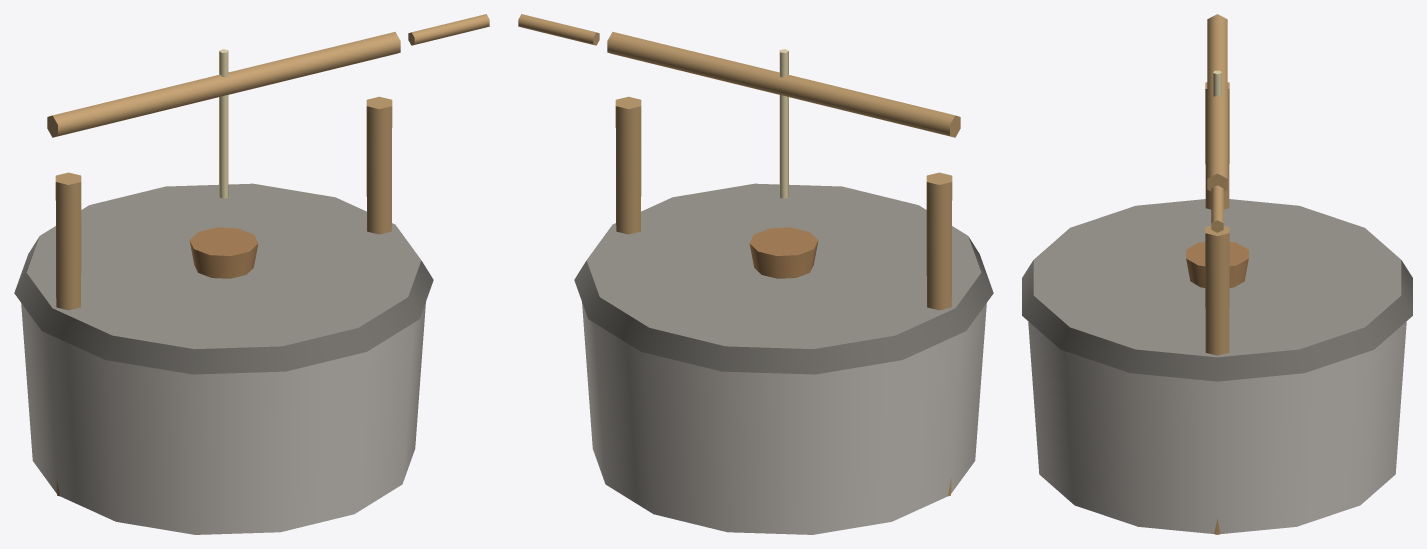
File: well.glb
3 renders of one model, left to right at view 1: azimuth 30°, elevation 25°; view 2: azimuth 150°, elevation 25°; view 3: azimuth 270°, elevation 25°, orthographic. The views are drawn at different scales.
Visible parts, largest first — view 1: well_body, well_rim, crossbeam, post_L, post_R, bucket, rope, handle; view 2: well_body, well_rim, crossbeam, post_L, post_R, bucket, rope, handle; view 3: well_body, well_rim, crossbeam, post_R, bucket, post_L, handle.
Boxes of the visible parts, x1,y1,x2,y2 form: well_body: (21,302,425,534); well_rim: (14,183,433,374); crossbeam: (47,31,400,137); post_L: (55,172,81,496); post_R: (366,96,392,234); bucket: (189,227,258,278); rope: (219,49,228,198); handle: (408,14,489,45); well_body: (582,302,986,534); well_rim: (574,183,993,374); crossbeam: (607,31,960,137); post_L: (926,172,952,496); post_R: (615,96,641,234); bucket: (749,227,818,278); rope: (779,49,788,198); handle: (518,14,599,45); well_body: (1028,321,1406,533); well_rim: (1022,199,1412,381); crossbeam: (1207,14,1227,191); post_R: (1205,226,1229,534); bucket: (1186,242,1248,287); post_L: (1205,82,1229,209); handle: (1211,185,1223,232).
Size of the model in its own units: 4.15 by 3.6 by 3.31.
